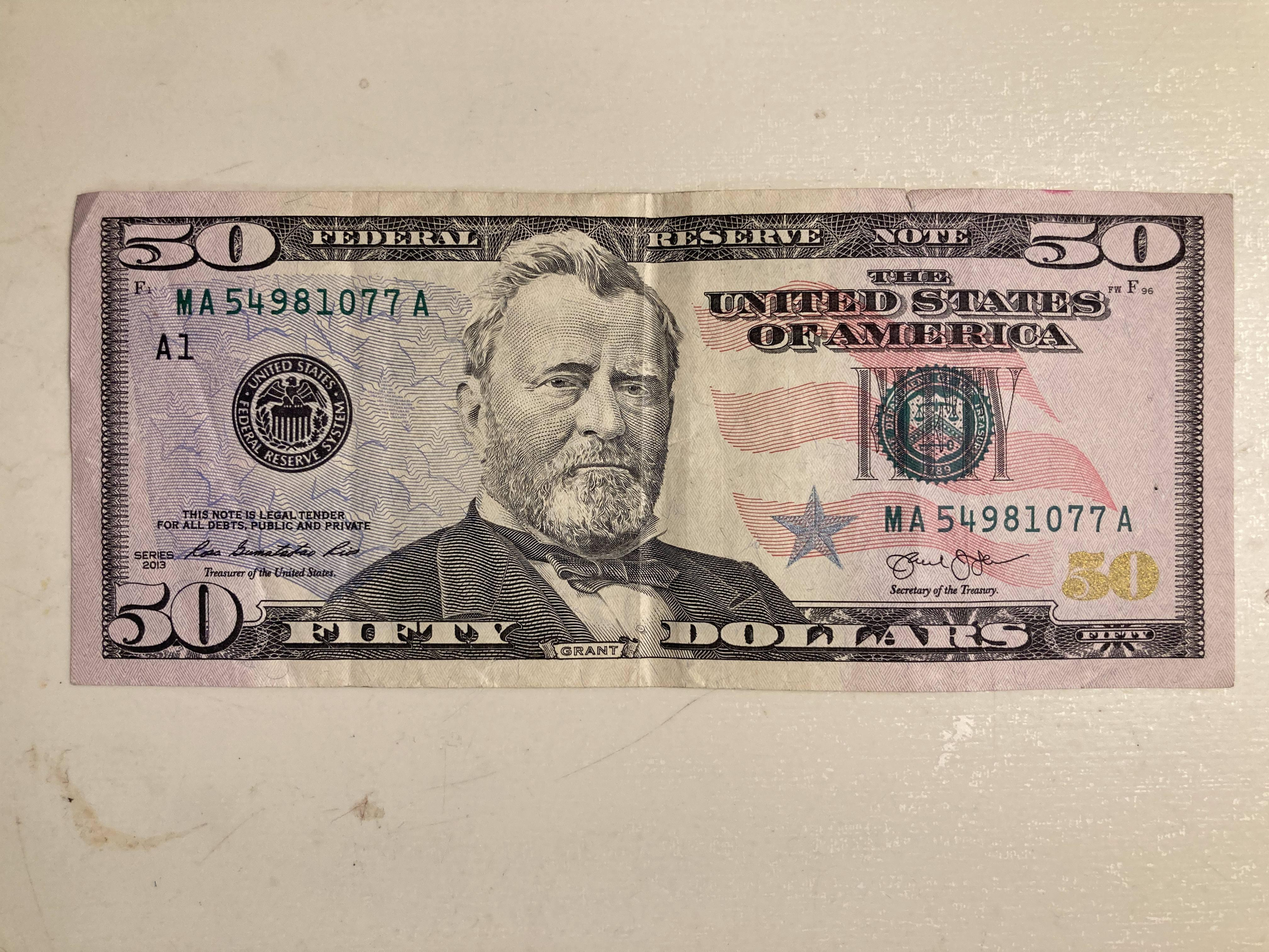fifty-front: (67, 189, 1239, 694)
